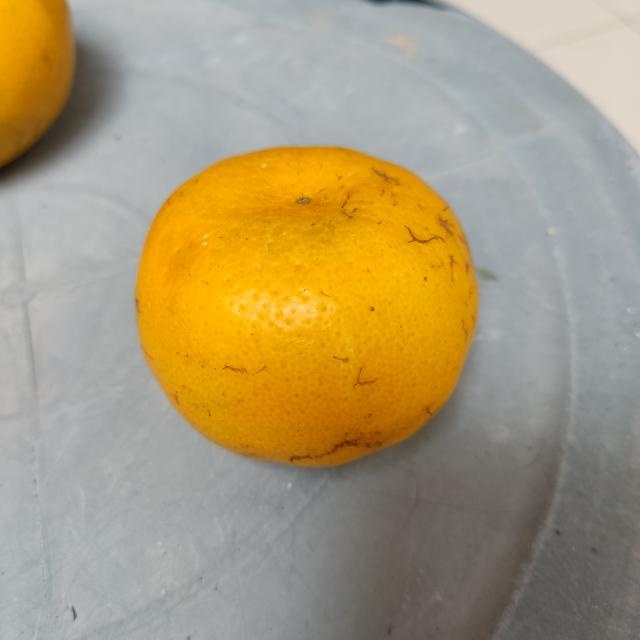agrume: (134, 145, 478, 471)
